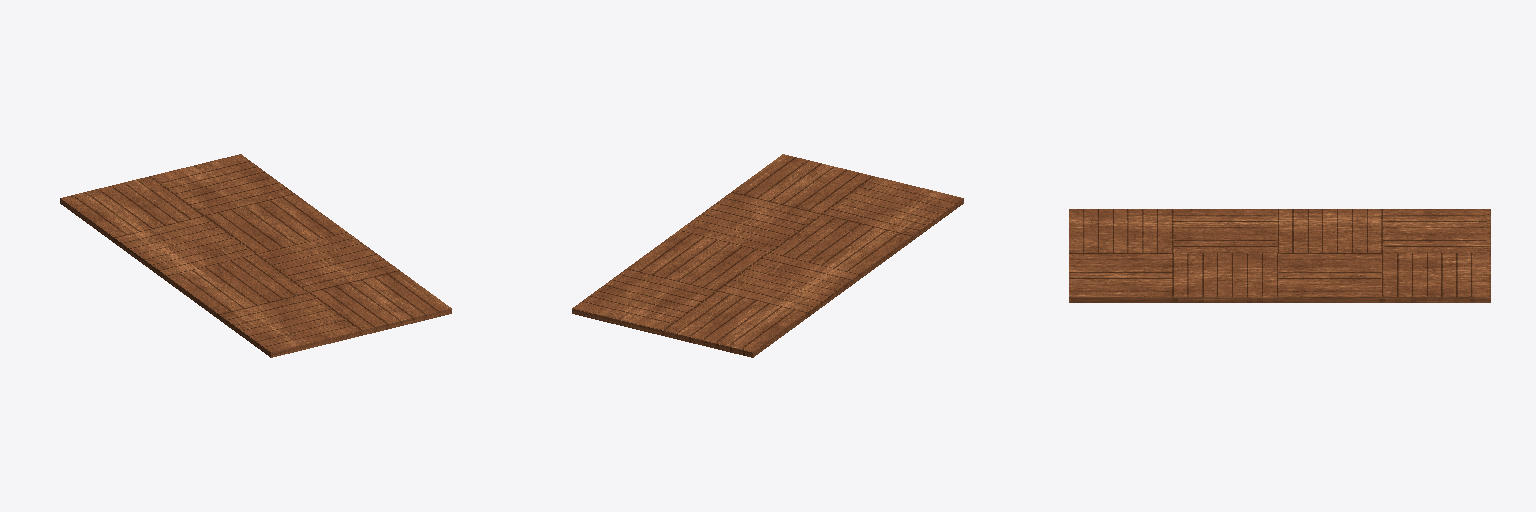
The picture shows the model from 3 angles: view 1: azimuth 30°, elevation 25°; view 2: azimuth 150°, elevation 25°; view 3: azimuth 270°, elevation 25°; orthographic projection.
Visible parts, largest first — view 1: pCube1; view 2: pCube1; view 3: pCube1.
Boxes of the visible parts, <box> form: pCube1: <box>60,154,451,357</box>; pCube1: <box>572,154,963,357</box>; pCube1: <box>1069,209,1490,302</box>.
Size of the model in its own units: 10.01 by 0.2827 by 20.25.
Materials: 1 (1 with a texture image).